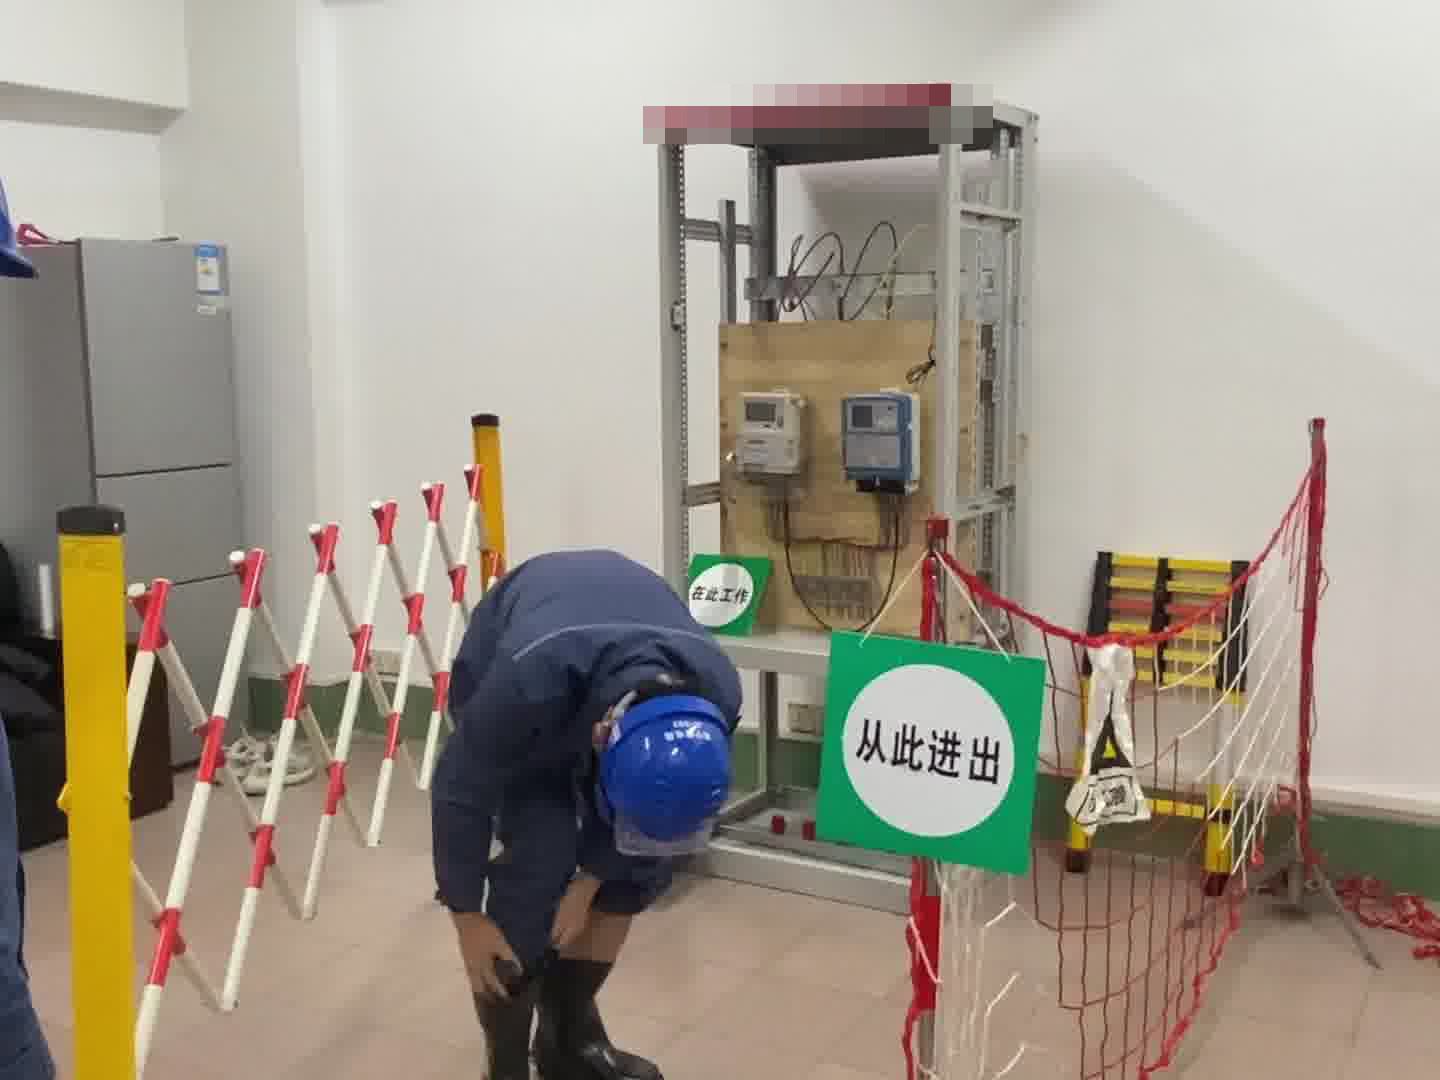halt: (590, 694, 737, 862)
hand: (452, 912, 520, 1000), (552, 869, 597, 951)
intosign: (814, 628, 1052, 872)
person: (427, 535, 757, 1079)
shoe: (472, 952, 666, 1080)
upsuit: (431, 541, 748, 800)
worksign: (689, 551, 774, 638)
